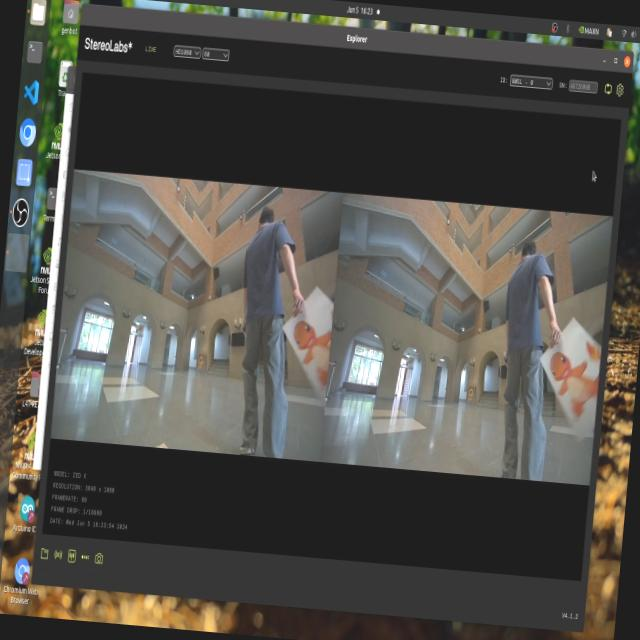red: (528, 334, 592, 421), (286, 298, 334, 396)
